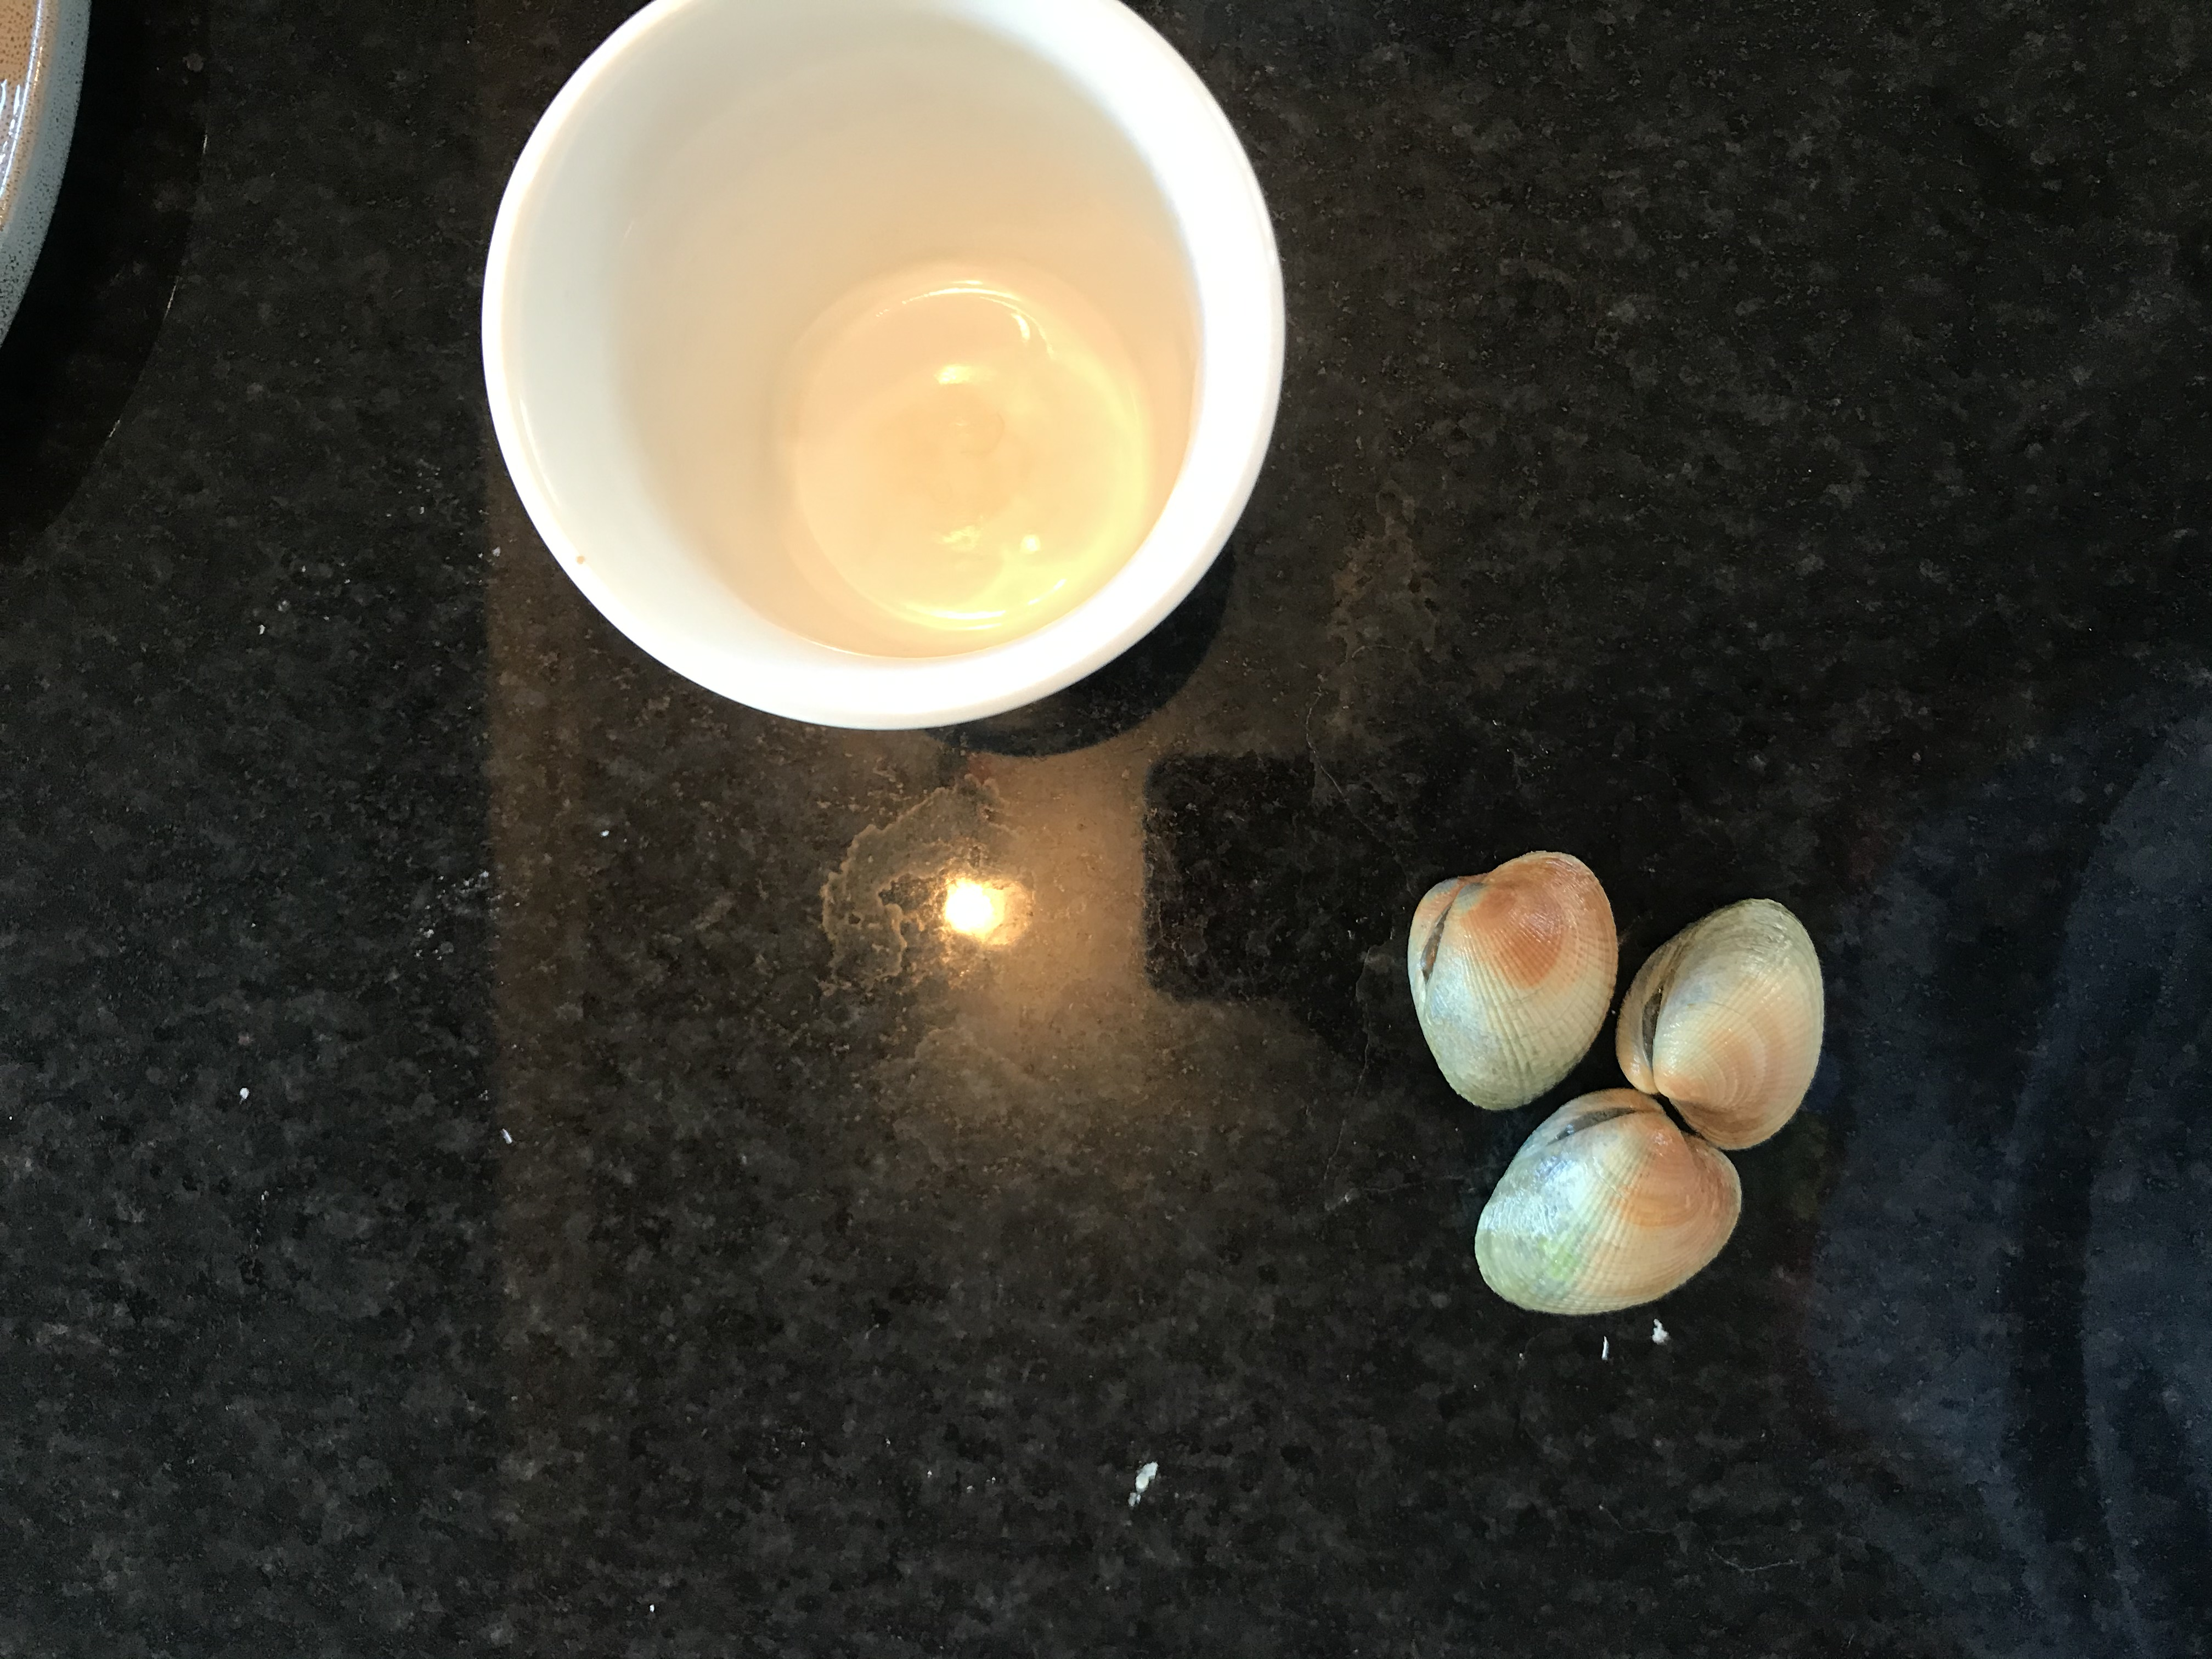cockle: (1458, 1086, 1749, 1323), (1404, 845, 1623, 1122), (1611, 892, 1832, 1159)
